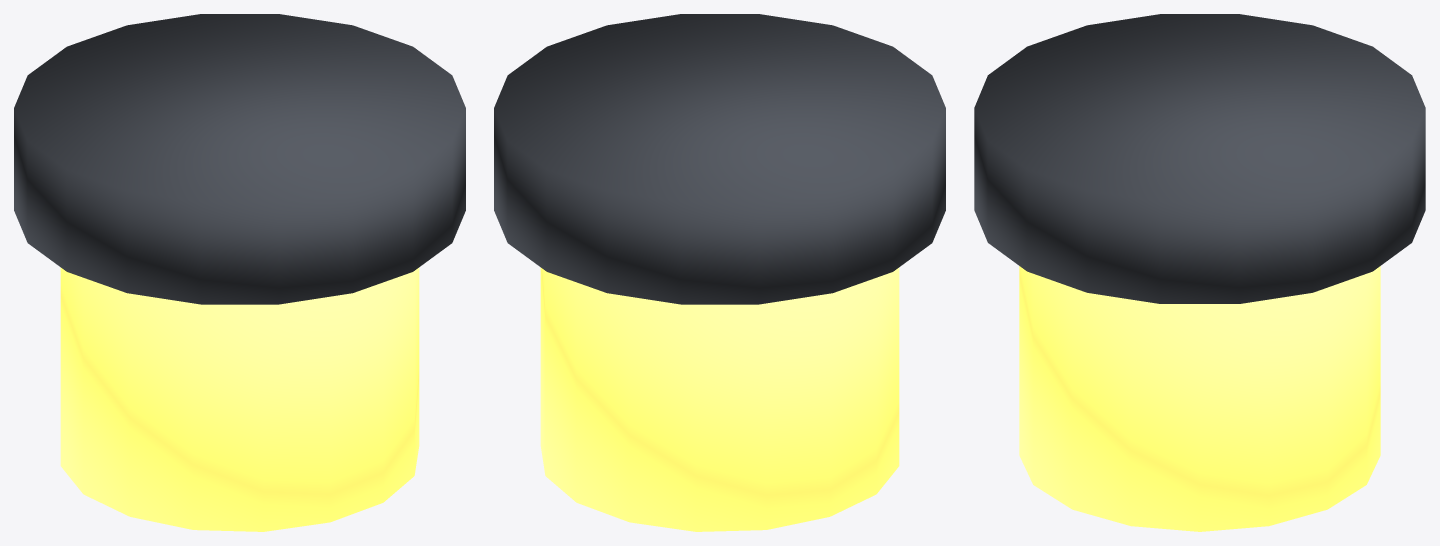
The model's file is beacon_rotary_amber.glb.
The picture shows the model from 3 angles, left to right: view 1: azimuth 30°, elevation 25°; view 2: azimuth 150°, elevation 25°; view 3: azimuth 270°, elevation 25°; orthographic projection.
Visible parts, largest first — view 1: GD_beacon_rotary_amber__m0, GD_beacon_rotary_amber__m1; view 2: GD_beacon_rotary_amber__m0, GD_beacon_rotary_amber__m1; view 3: GD_beacon_rotary_amber__m0, GD_beacon_rotary_amber__m1.
Boxes of the visible parts, box(x1,y1,x2,y2) form: GD_beacon_rotary_amber__m0: box(14, 14, 465, 304); GD_beacon_rotary_amber__m1: box(60, 267, 419, 531); GD_beacon_rotary_amber__m0: box(494, 14, 945, 304); GD_beacon_rotary_amber__m1: box(540, 267, 899, 531); GD_beacon_rotary_amber__m0: box(974, 14, 1425, 303); GD_beacon_rotary_amber__m1: box(1019, 266, 1380, 531).
Bounding box in the file's own units: 0.197 × 0.17 × 0.2.
